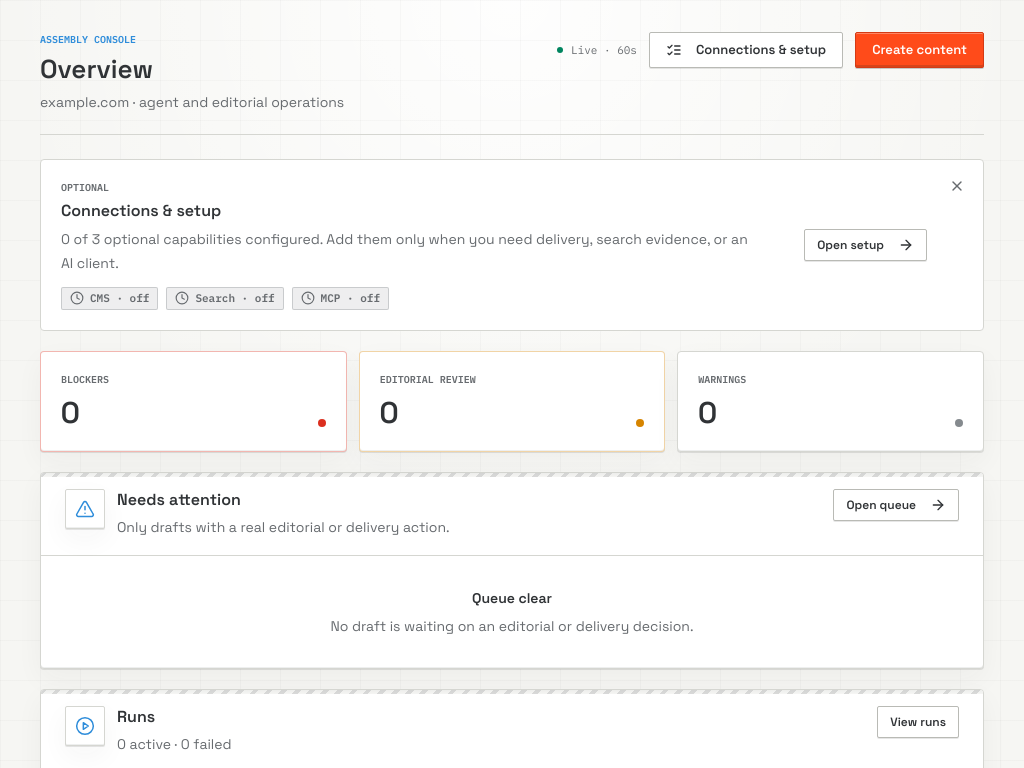
Test: Overview setup readiness › dismisses the compact setup until readiness regresses
This screenshot has width=1024, height=768.
Click the button named "Dismiss connections setup".
click(957, 186)  # box [939,168,975,204]
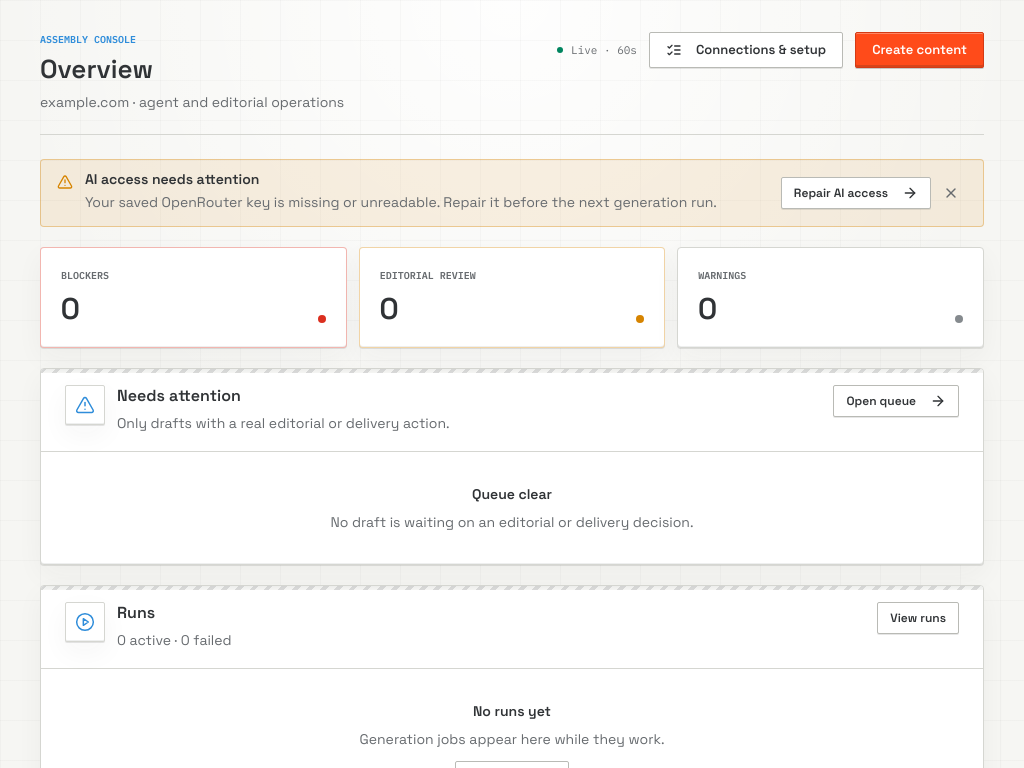
Expected: the text "AI access needs attention" is shown, [85,170,260,188]
Expected: the text "Repair AI access" is shown, [781,177,931,209]
